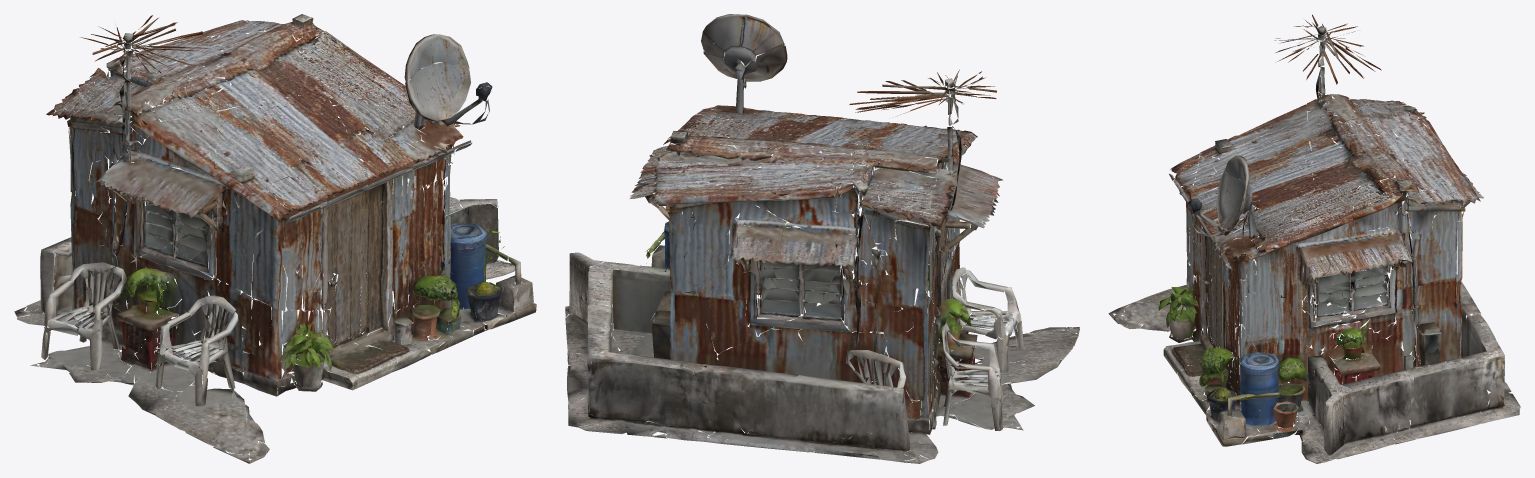
File: m_roof_shack.glb
3 renders of one model, left to right at view 1: azimuth 30°, elevation 25°; view 2: azimuth 150°, elevation 25°; view 3: azimuth 270°, elevation 25°, orthographic. The views are drawn at different scales.
Parts seen in each view (by area): view 1: tripo_node_790d568e-8f4a-41c7-b133-183179c182fe; view 2: tripo_node_790d568e-8f4a-41c7-b133-183179c182fe; view 3: tripo_node_790d568e-8f4a-41c7-b133-183179c182fe.
Part boxes in pixels (x1=…): tripo_node_790d568e-8f4a-41c7-b133-183179c182fe: x1=14, y1=14, x2=536, y2=463; tripo_node_790d568e-8f4a-41c7-b133-183179c182fe: x1=565, y1=14, x2=1079, y2=463; tripo_node_790d568e-8f4a-41c7-b133-183179c182fe: x1=1108, y1=14, x2=1520, y2=463.
Bounding box in the file's own units: 2.45 × 1.67 × 2.16.
1 material, 1 textured.
